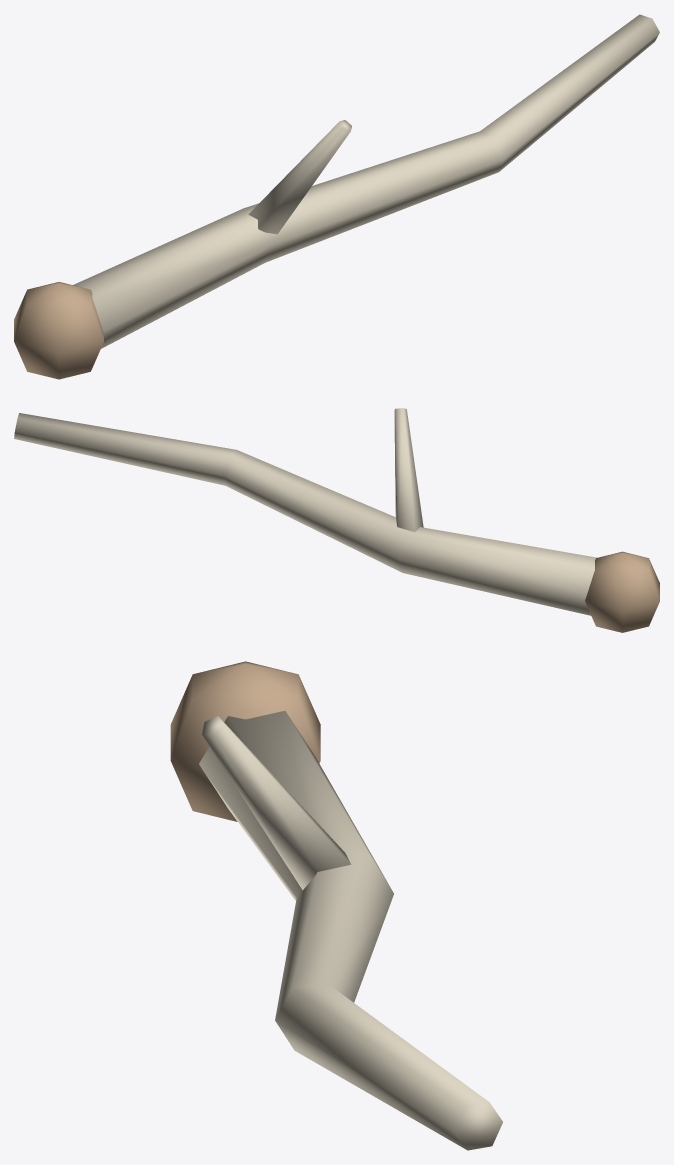
The model's file is col_antler_tine.gltf.
3 renders of one model, top to bottom at view 1: azimuth 30°, elevation 25°; view 2: azimuth 150°, elevation 25°; view 3: azimuth 270°, elevation 25°, orthographic. The views are drawn at different scales.
Visible parts, largest first — view 1: col_antler_tine; view 2: col_antler_tine; view 3: col_antler_tine.
Boxes of the visible parts, x1,y1,x2,y2 form: col_antler_tine: (14, 14, 659, 379); col_antler_tine: (14, 408, 659, 632); col_antler_tine: (170, 661, 502, 1150).
Size of what is drawn, in the model's own units: 0.2454 by 0.0649 by 0.0599.
